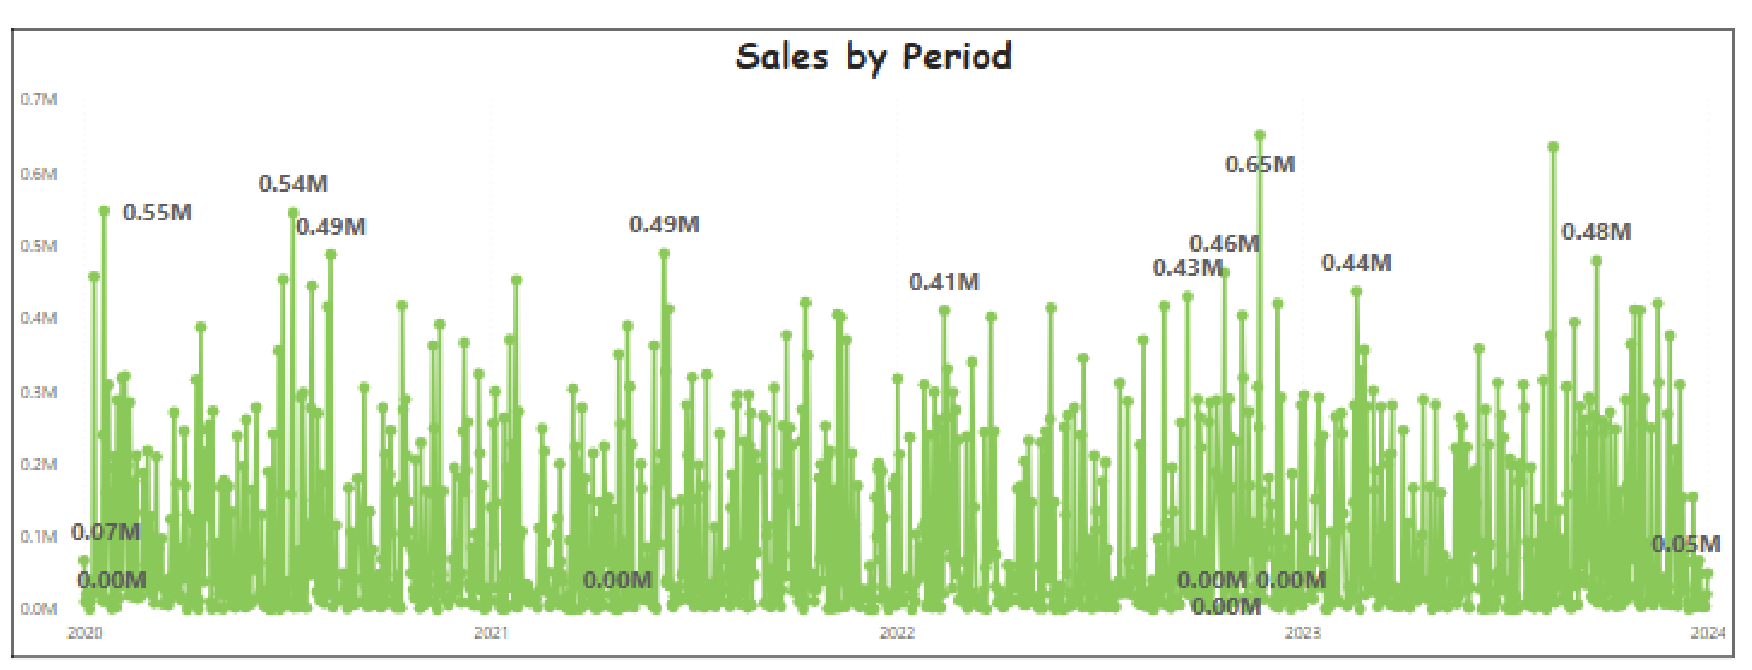

The dashboard page shown, as its layout file describes it:
{"tool":"powerbi","page":{"name":"Sales by Period","canvas":[1280,720],"ordinal":1},"visuals":[{"type":"lineChart","title":" Sales by Period","fields":{"Y":["Sum(FACTS TABLE.Net Sales)"],"Category":["FACTS TABLE.Date (dd/mm/yyyy).Variation.Date Hierarchy.Year"]},"box":[14.3,162.5,1250,457.1],"z":0}]}

Visuals, with their boxes on the page's 1280x720 design canvas (x1, y1, x2, y2). These are canvas units, not pixel positions in the 1752x670 screenshot, which may show the page scaled, cropped or inside an application window:
" Sales by Period" lineChart: [x1=14, y1=162, x2=1264, y2=620]
